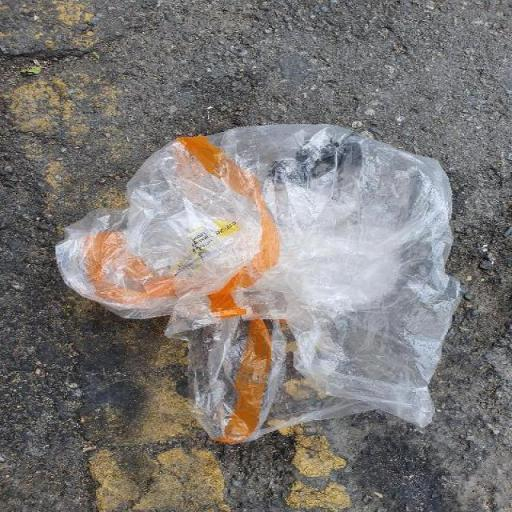polythene: (56, 124, 459, 443)
